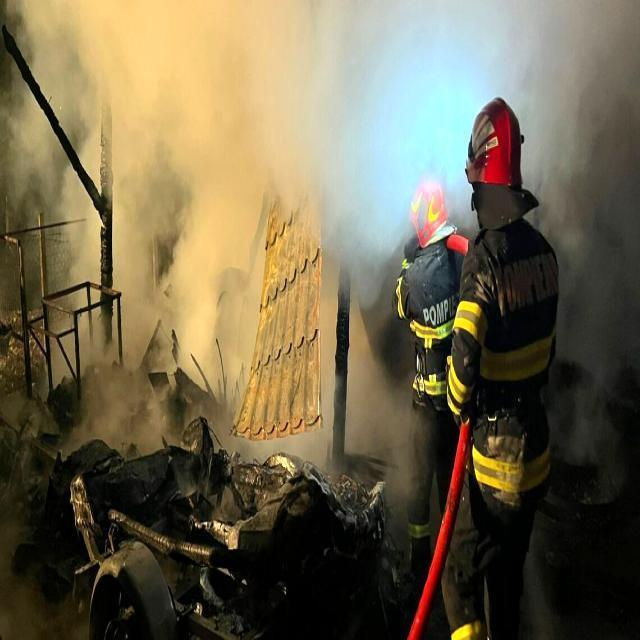Smoke: (19, 0, 400, 487), (517, 29, 640, 451)
